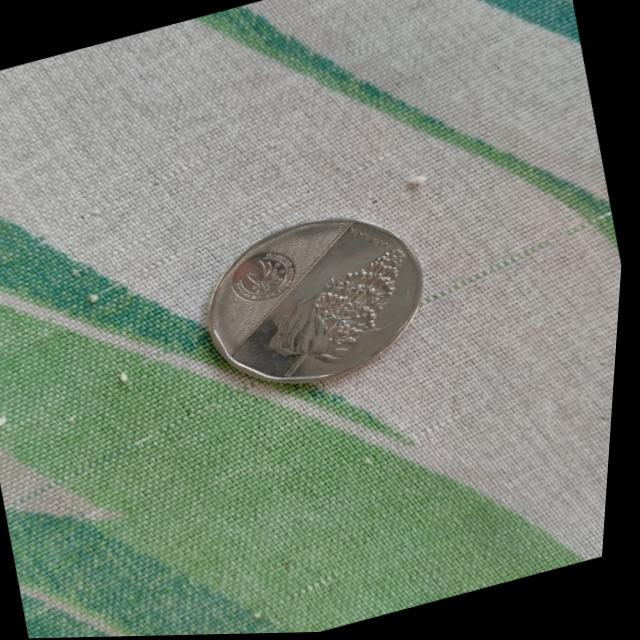10_New_Back: (246, 235, 442, 394)
